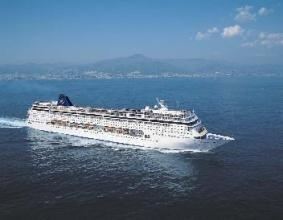youlun: (21, 90, 236, 151)
